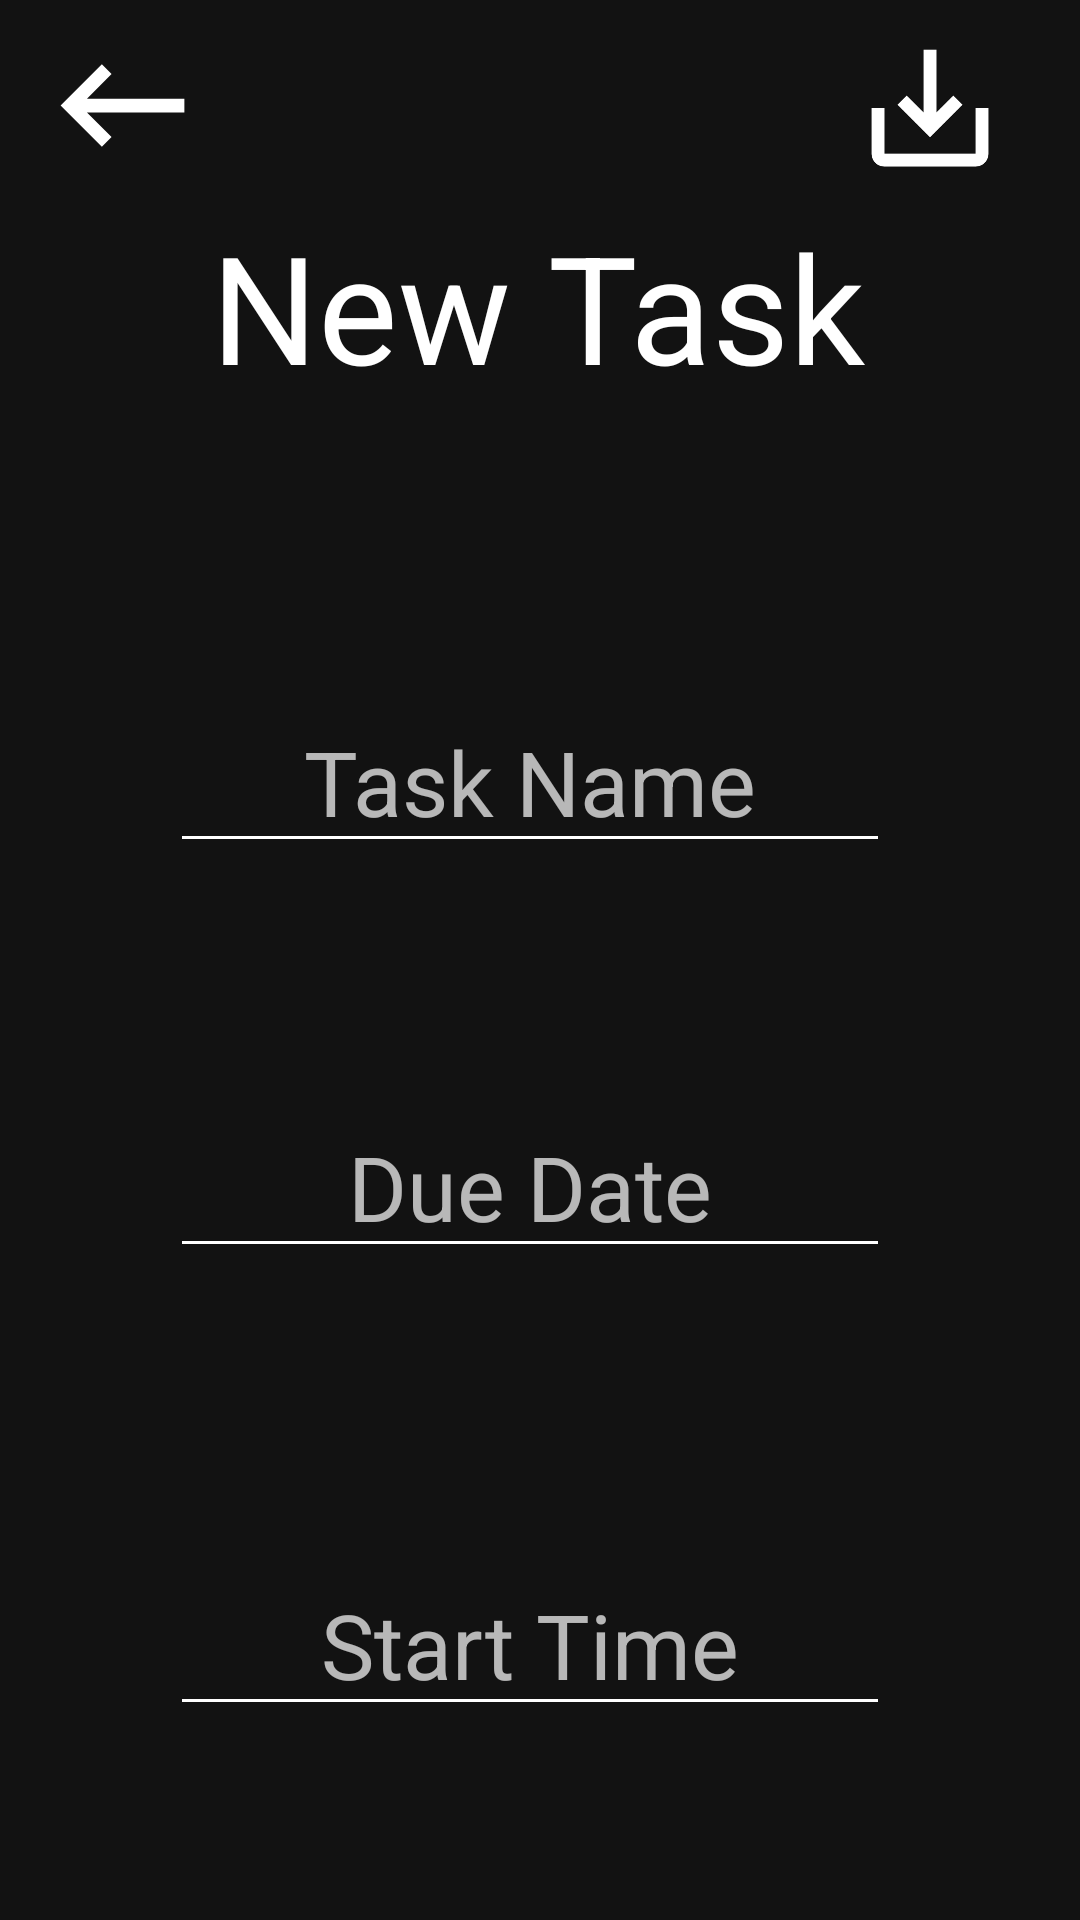

Where to tap for icons on this 1080px x 1920px app screen, as (x=x, y=y):
back arrow: (x=122, y=105)
save: (x=930, y=108)
